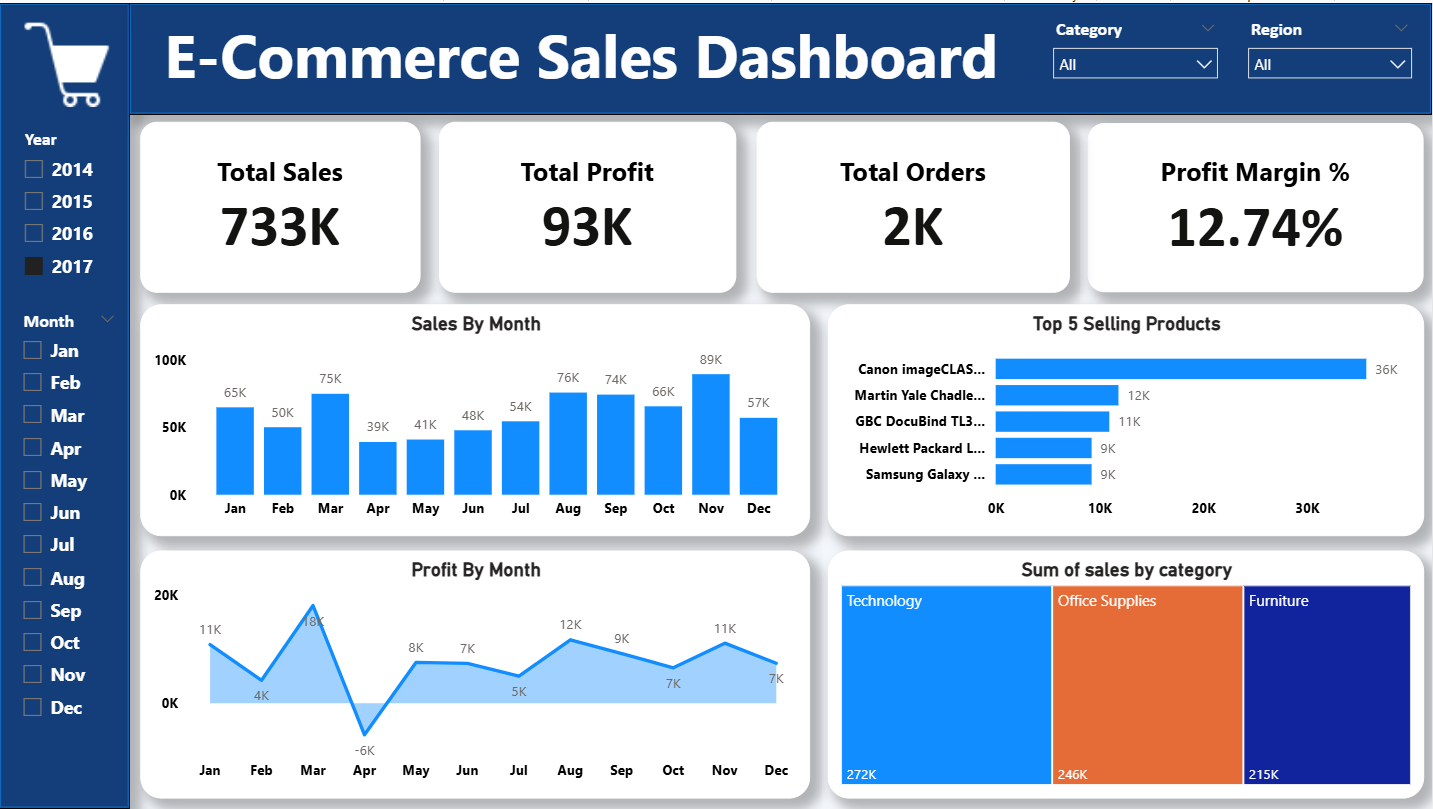

Layout of this report page (visuals, bound fields, positions):
{"tool":"powerbi","page":{"name":"Page 1","canvas":[1280,720],"ordinal":0},"visuals":[{"type":"shape","box":[0,0,117.1,720],"z":0},{"type":"image","box":[147.1,21.4,84.3,77.1],"z":1000},{"type":"shape","box":[115.7,0,1164.3,100],"z":2000},{"type":"slicer","fields":{"Values":["cleaned_dataset.Year"]},"box":[10,106.7,106.7,153.3],"z":3000},{"type":"textbox","box":[117.1,4.3,805.7,91.4],"z":4000},{"type":"slicer","fields":{"Values":["cleaned_dataset.Month"]},"box":[8.6,268.6,107.1,444.3],"z":5000},{"type":"slicer","fields":{"Values":["cleaned_dataset.category"]},"box":[931.4,8.6,167.9,90.7],"z":6000},{"type":"slicer","fields":{"Values":["cleaned_dataset.region"]},"box":[1105.7,8.6,166.4,90.7],"z":7000},{"type":"cardVisual","fields":{"Data":["cleaned_dataset.Total Sales"]},"box":[125.7,105.7,250,152.9],"z":8000},{"type":"cardVisual","fields":{"Data":["cleaned_dataset.Profit Margin %"]},"box":[972.9,107.1,300,151.4],"z":9000},{"type":"cardVisual","fields":{"Data":["cleaned_dataset.Total Orders"]},"box":[677.1,105.7,280,152.9],"z":10000},{"type":"cardVisual","fields":{"Data":["cleaned_dataset.Total Profit"]},"box":[392.9,105.7,265.7,152.9],"z":11000},{"type":"columnChart","title":"Sales By Month","fields":{"Y":["Sum(cleaned_dataset.sales)"],"Category":["cleaned_dataset.Month"]},"box":[125.7,268.6,598.6,207.1],"z":12000},{"type":"areaChart","title":"Profit By Month","fields":{"Category":["cleaned_dataset.Month"],"Y":["Sum(cleaned_dataset.profit)"]},"box":[125.7,488.6,598.6,221.4],"z":13000},{"type":"clusteredBarChart","title":"Top 5 Selling Products","fields":{"Category":["cleaned_dataset.product_name"],"Y":["Sum(cleaned_dataset.sales)"]},"box":[740,268.6,532.9,207.1],"z":14000},{"type":"treemap","fields":{"Group":["cleaned_dataset.category"],"Values":["Sum(cleaned_dataset.sales)"]},"box":[740,488.6,532.9,221.4],"z":15000},{"type":"image","box":[15.7,14.3,92.9,78.6],"z":16000}]}

Visuals, with their boxes in screenshot pixels (x1, y1, x2, y2), scaled from the page's 1280x720 canvas onto the 1433x809 screenshot:
shape: box=[0, 0, 131, 808]
image: box=[165, 24, 259, 111]
shape: box=[130, 0, 1432, 112]
slicer - cleaned_dataset.Year: box=[11, 120, 131, 292]
textbox: box=[131, 5, 1033, 108]
slicer - cleaned_dataset.Month: box=[10, 302, 130, 801]
slicer - cleaned_dataset.category: box=[1043, 10, 1231, 112]
slicer - cleaned_dataset.region: box=[1238, 10, 1424, 112]
cardVisual - cleaned_dataset.Total Sales: box=[141, 119, 421, 291]
cardVisual - cleaned_dataset.Profit Margin %: box=[1089, 120, 1425, 290]
cardVisual - cleaned_dataset.Total Orders: box=[758, 119, 1072, 291]
cardVisual - cleaned_dataset.Total Profit: box=[440, 119, 737, 291]
"Sales By Month" columnChart: box=[141, 302, 811, 535]
"Profit By Month" areaChart: box=[141, 549, 811, 798]
"Top 5 Selling Products" clusteredBarChart: box=[828, 302, 1425, 535]
treemap - cleaned_dataset.category x Sum(cleaned_dataset.sales): box=[828, 549, 1425, 798]
image: box=[18, 16, 122, 104]
